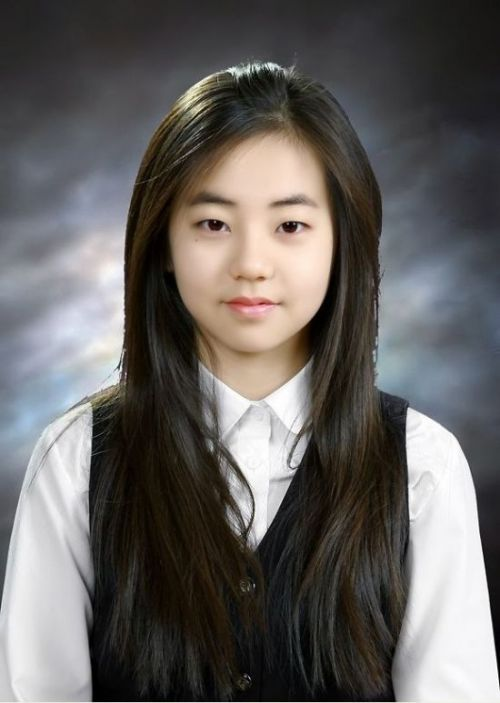unmask: (176, 148, 345, 335)
